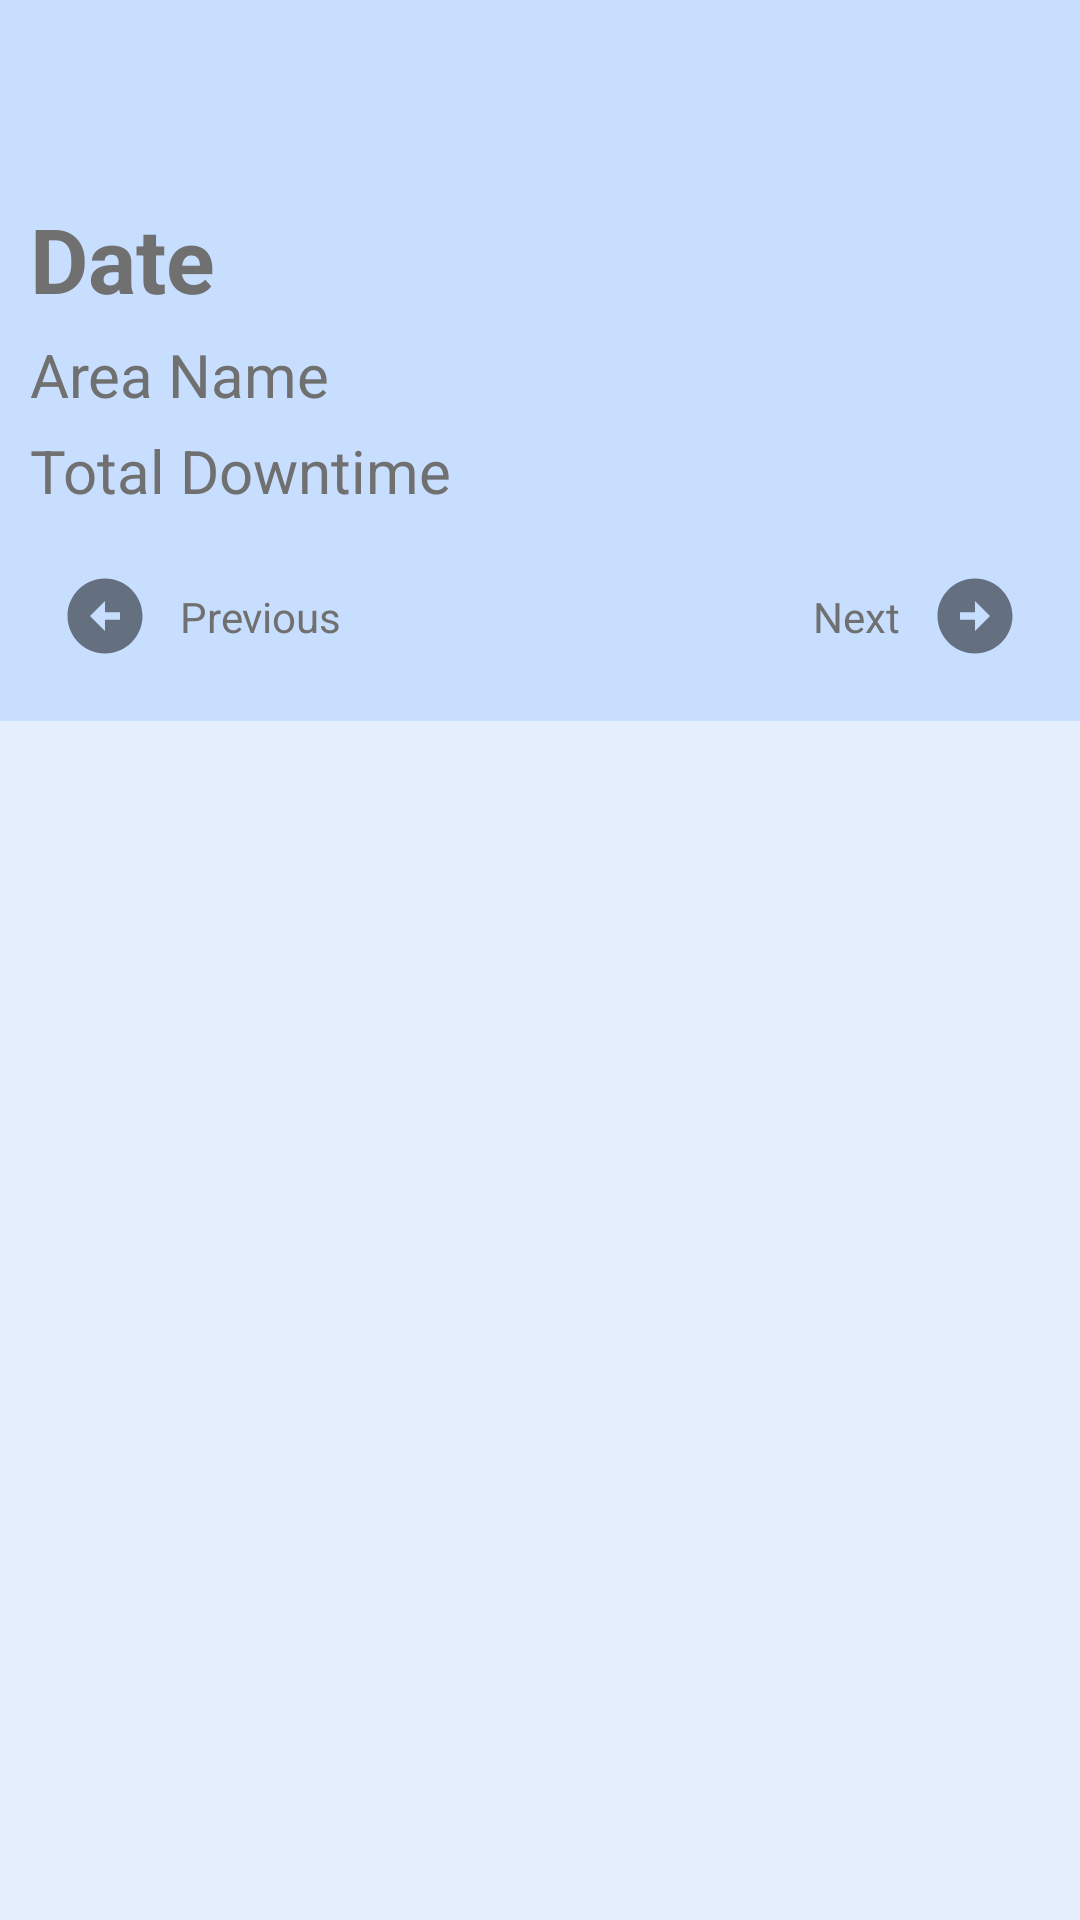

Named icons in this screenshot (1080w x 1920h) and their centers, (x=x, y=y):
arrow circle left: (x=105, y=616)
arrow circle right: (x=975, y=616)
